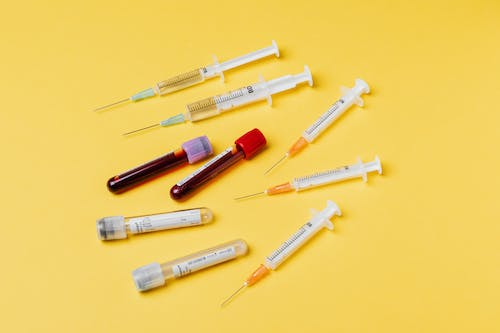blood: (169, 144, 244, 199), (104, 148, 188, 196)
